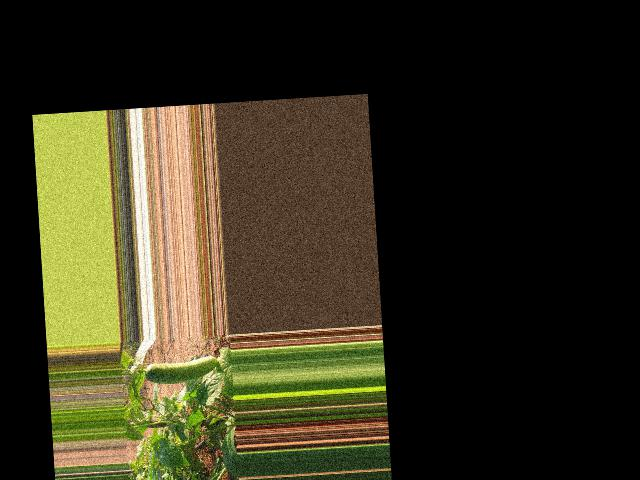cucumber: (144, 355, 218, 385)
